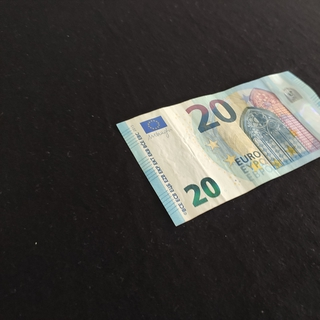20EUROFront: (115, 70, 320, 226)
